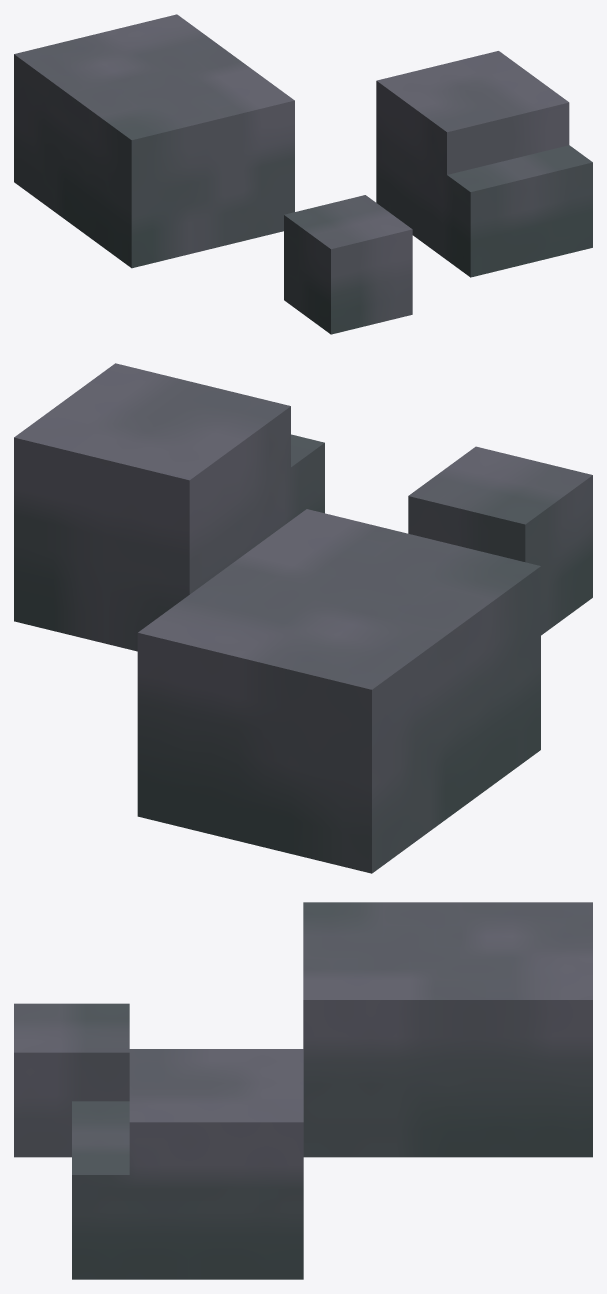
The model's file is Rock_6.fbx.
3 views of the same model, one above another, from view 1: azimuth 30°, elevation 25°; view 2: azimuth 150°, elevation 25°; view 3: azimuth 270°, elevation 25° (orthographic). The views are drawn at different scales.
Parts seen in each view (by area): view 1: Rock_6; view 2: Rock_6; view 3: Rock_6.
Boxes of the visible parts, bbox=[...] form: Rock_6: bbox=[14, 14, 592, 334]; Rock_6: bbox=[14, 363, 592, 873]; Rock_6: bbox=[14, 902, 592, 1279].
Size of the model in its own units: 45 by 15 by 50.
